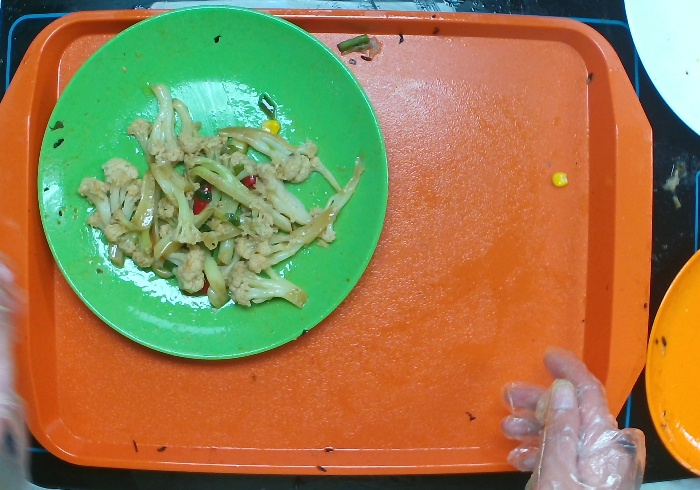HZYJPL-Lv_Se_Yuan_Pan: (31, 1, 402, 374)
